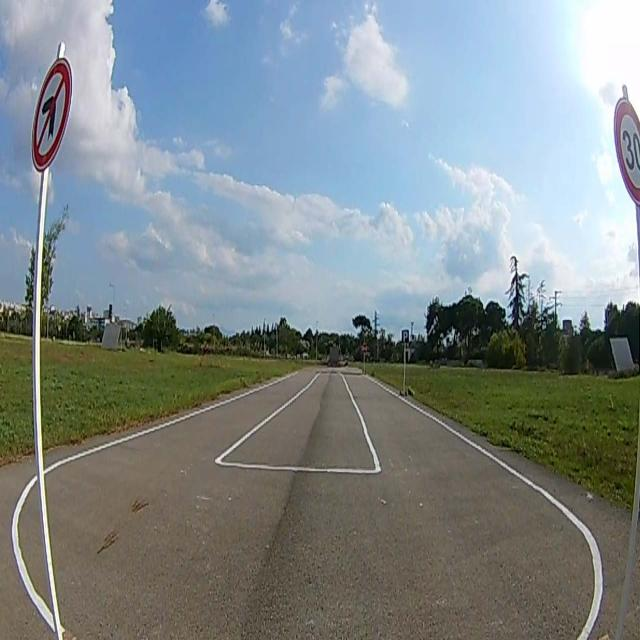30: (614, 98, 640, 205)
soladonulmez: (28, 57, 73, 166)
